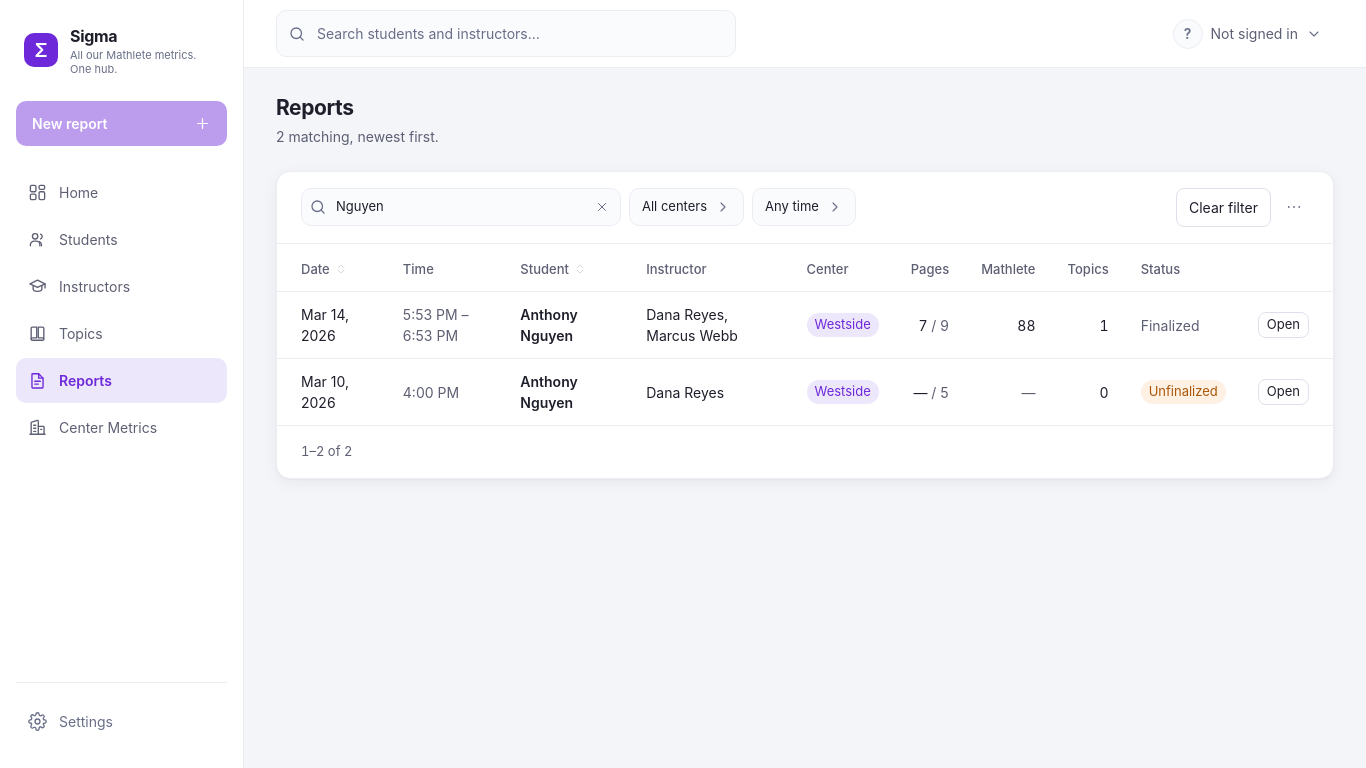
Test: reports page › filters by center from the card header, alongside the search rather than instead
Click the button "All centers" at (687, 207), box [629,188,744,226]
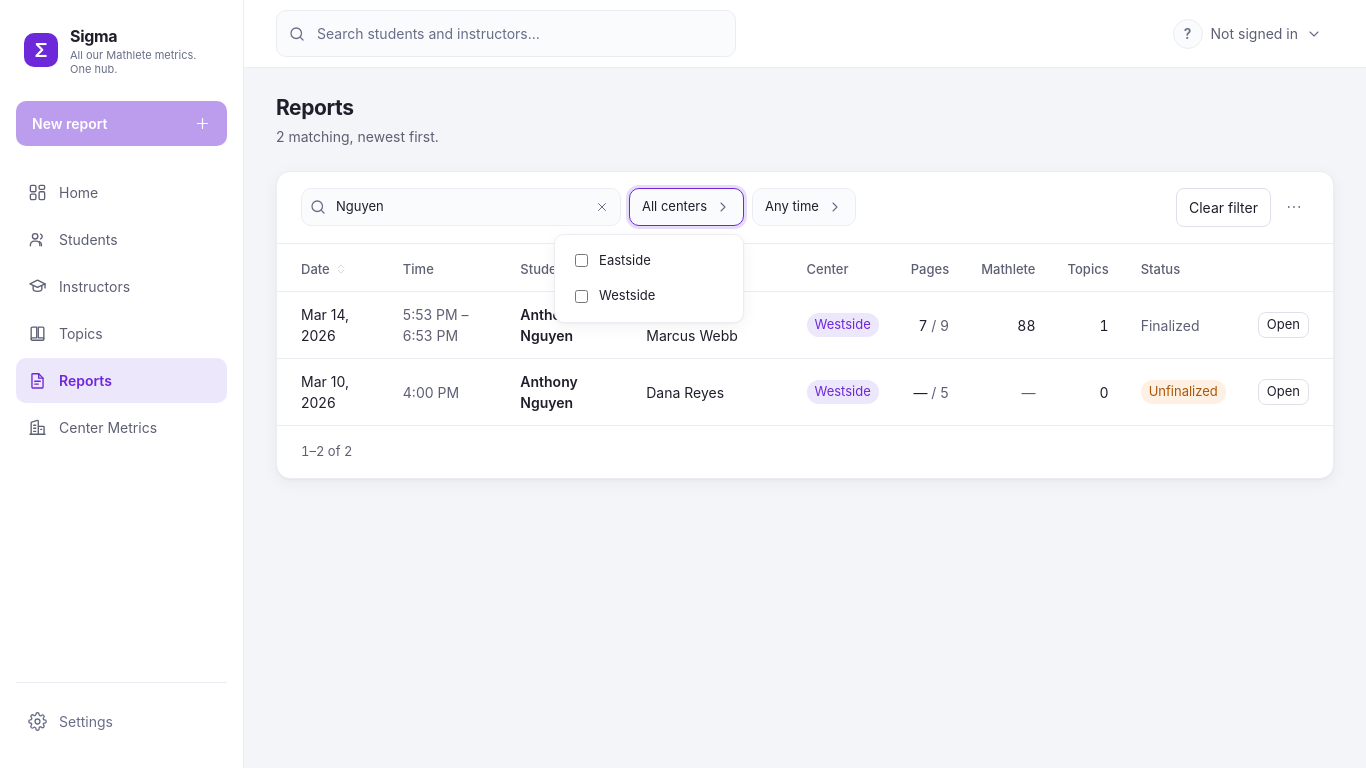
Click the checkbox labelled "Eastside" at (582, 260), box [575,254,588,267]
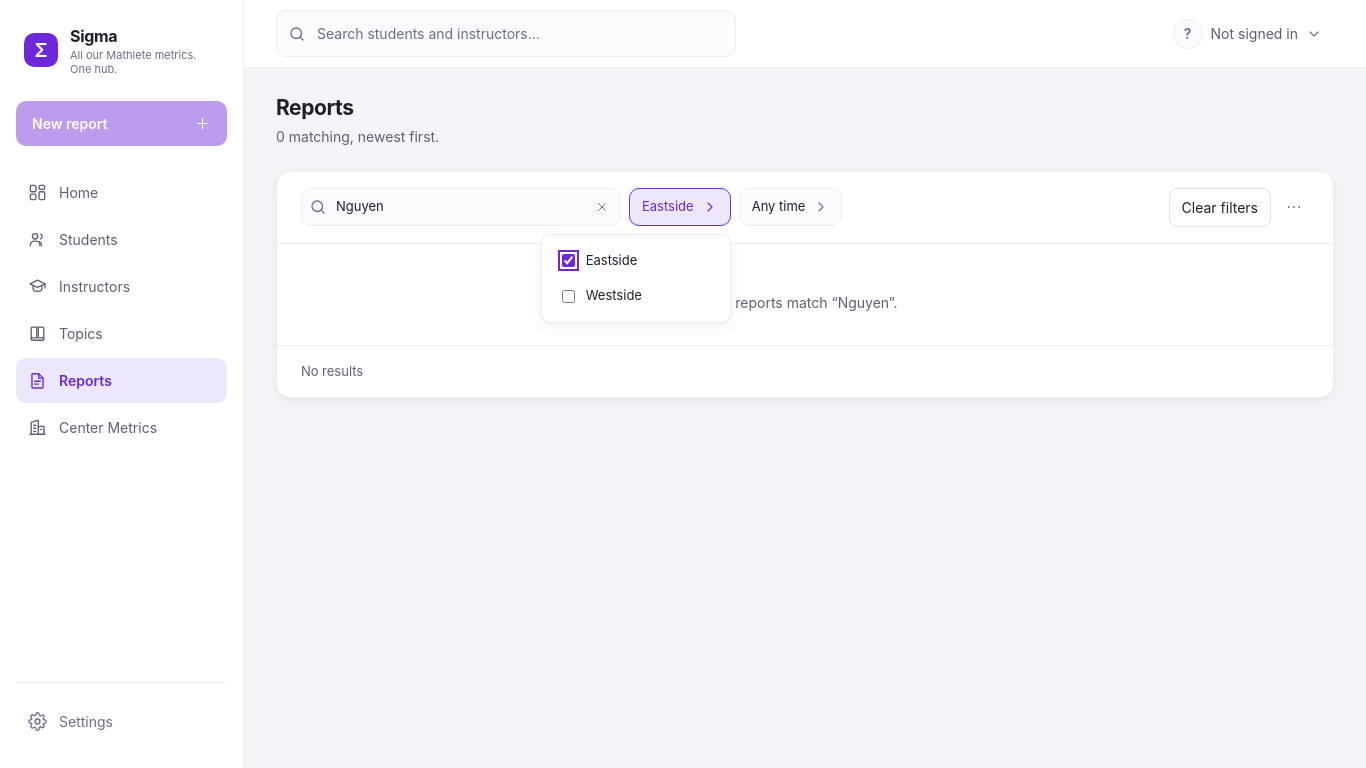
Result: the text "No reports match “Nguyen”." is shown at [712,294,898,310]
